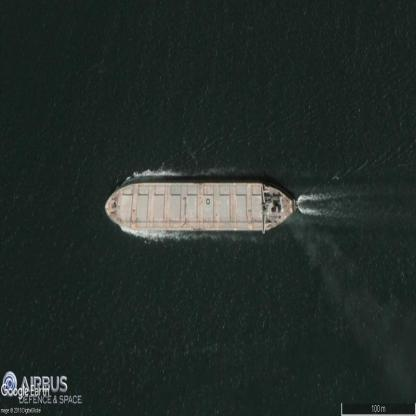ship: (105, 181, 298, 233)
